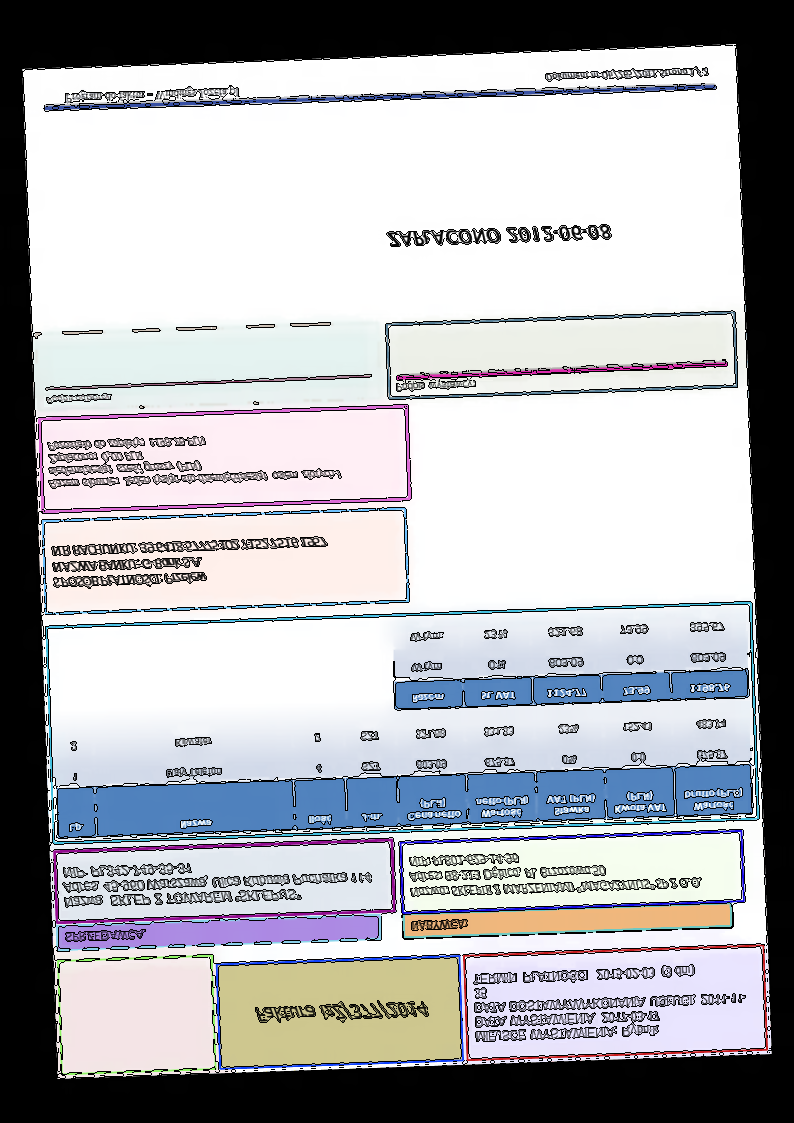Table: (52, 700, 754, 841), (389, 606, 751, 713)
TextBox: (471, 959, 751, 1046), (46, 429, 346, 492), (60, 852, 374, 911), (406, 843, 705, 902), (49, 531, 330, 593), (385, 220, 612, 252), (250, 997, 432, 1027), (63, 83, 240, 109), (543, 64, 711, 87), (60, 927, 148, 947), (392, 376, 478, 395), (43, 390, 113, 409), (408, 915, 469, 936)
